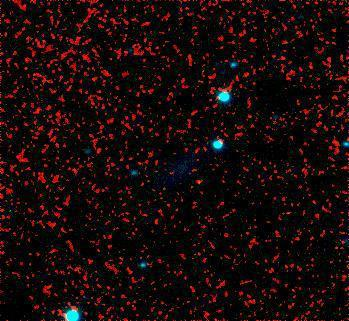star: (182, 163, 212, 193)
